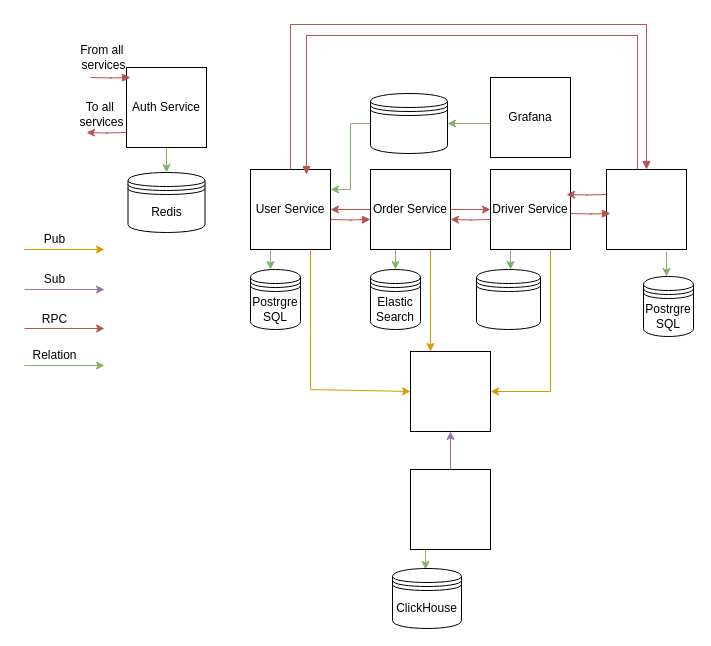
This 711x646 diagram has some shape labels left out. Here are the shapes that lost their labels. From the top down, the centre of each, then its label:
At [409,123]: "Prometheus".
At [646,209]: "Wallet Service".
At [508,299]: "MongoDB".
At [450,391]: "Kafka".
At [450,509]: "Analytics service".
